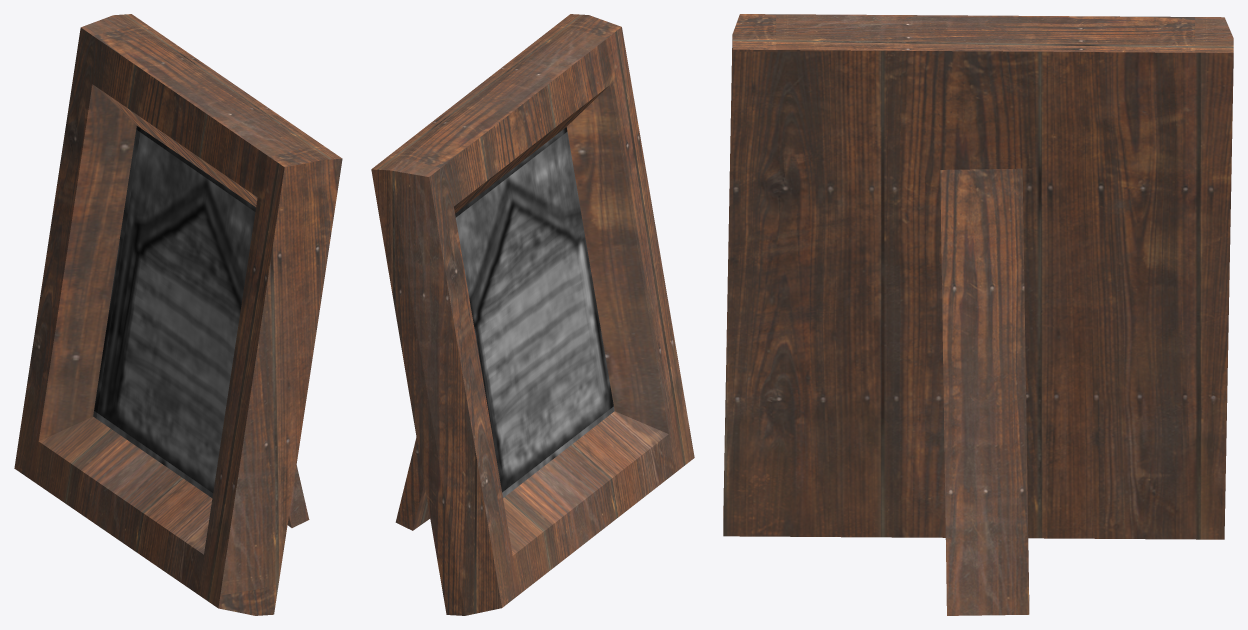
File: Frame_PictureSafeHouse_001.fbx
3 renders of one model, left to right at view 1: azimuth 30°, elevation 25°; view 2: azimuth 150°, elevation 25°; view 3: azimuth 270°, elevation 25°, orthographic. The views are drawn at different scales.
Parts seen in each view (by area): view 1: Frame_PictureSafeHouse_001; view 2: Frame_PictureSafeHouse_001; view 3: Frame_PictureSafeHouse_001.
Part boxes in pixels (bbox=[...]): Frame_PictureSafeHouse_001: bbox=[14, 14, 342, 615]; Frame_PictureSafeHouse_001: bbox=[371, 14, 694, 615]; Frame_PictureSafeHouse_001: bbox=[723, 14, 1233, 615].
Size of the model in its own units: 22.65 by 52.43 by 44.68.
